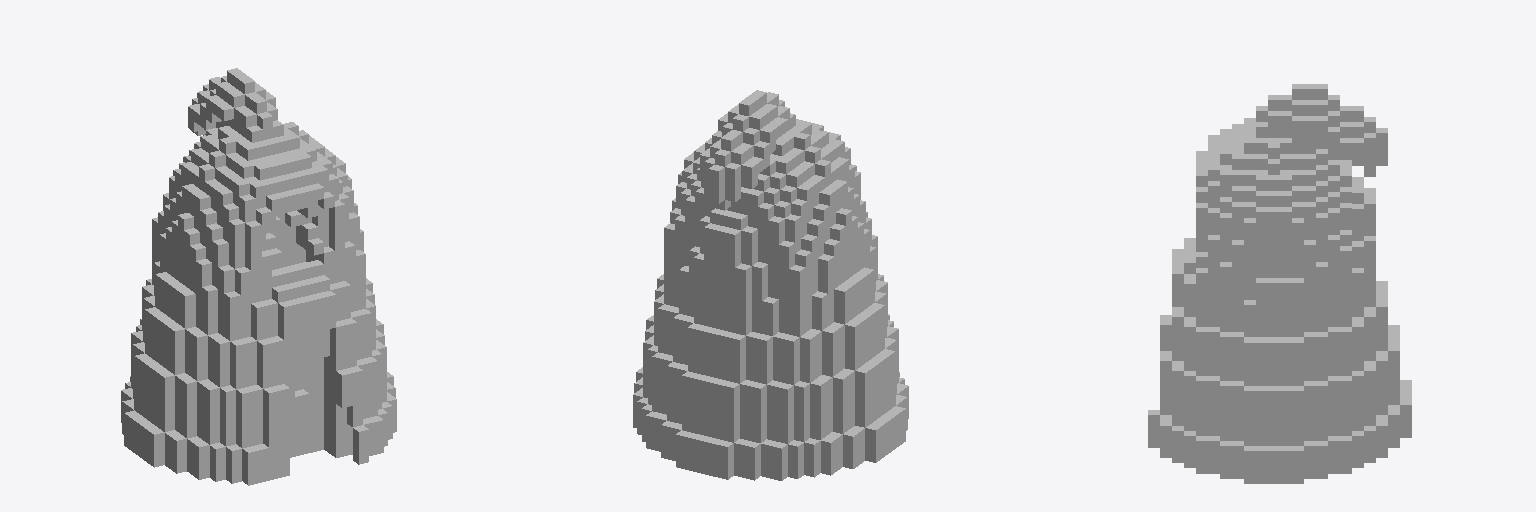
Rendered from Wizard.obj.
3 views of the same model, side by side, from view 1: azimuth 30°, elevation 25°; view 2: azimuth 150°, elevation 25°; view 3: azimuth 270°, elevation 25° (orthographic).
Parts seen in each view (by area): view 1: object 1; view 2: object 1; view 3: object 1.
Part boxes in pixels (left/top/right/bottom): object 1: left=121, top=68, right=396, bottom=485; object 1: left=633, top=90, right=908, bottom=480; object 1: left=1148, top=84, right=1411, bottom=483.
Bounding box in the file's own units: 2.3 × 3.1 × 2.2.